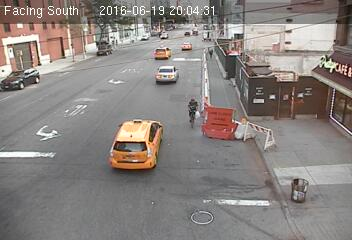neg: (177, 88, 208, 130), (232, 114, 252, 141)
pos: (205, 42, 219, 61)
